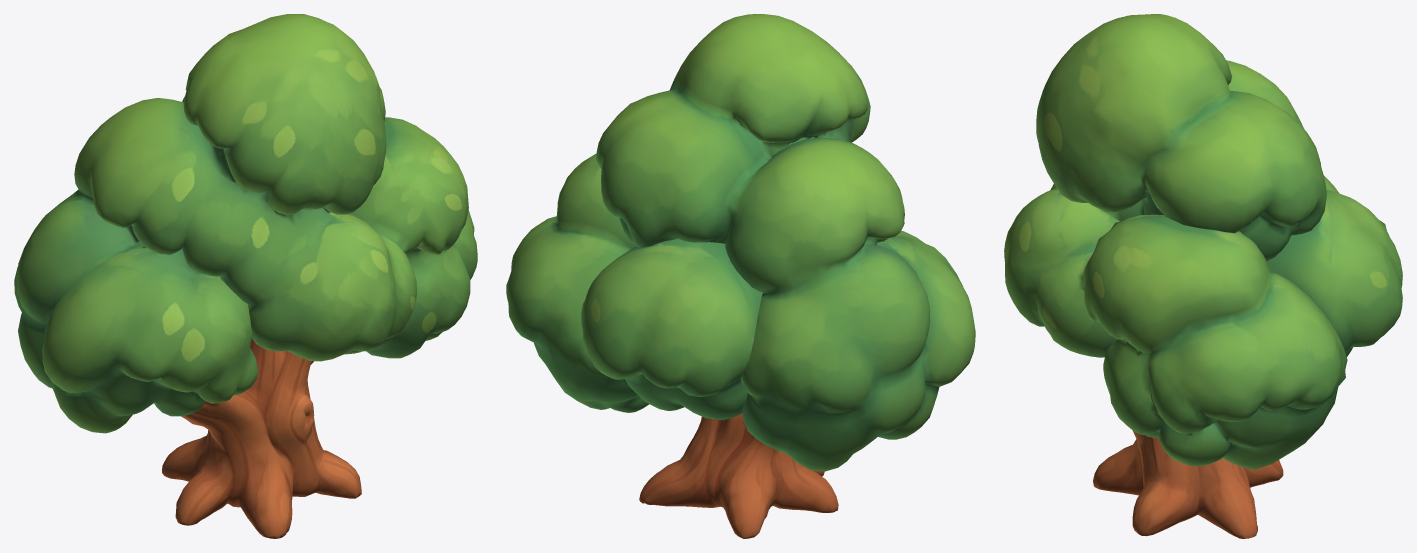
File: tree.glb
3 views of the same model, side by side, from view 1: azimuth 30°, elevation 25°; view 2: azimuth 150°, elevation 25°; view 3: azimuth 270°, elevation 25° (orthographic). The views are drawn at different scales.
Size of the model in its own units: 0.9062 by 0.9502 by 0.7153.
1 material, 1 textured.
